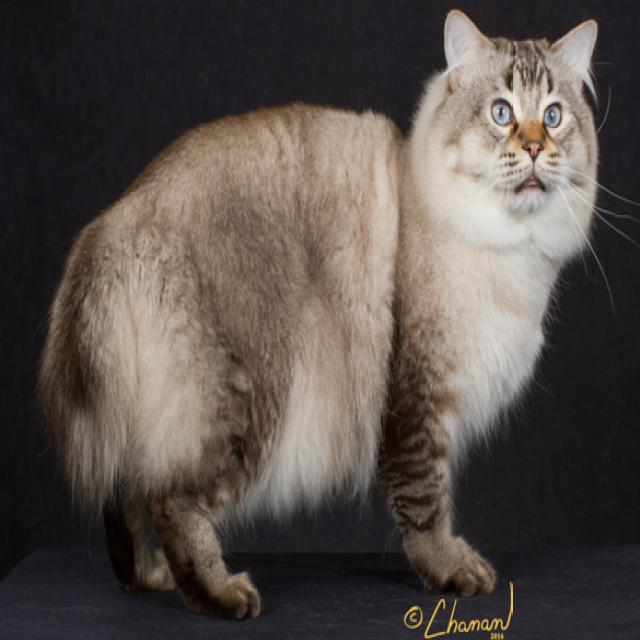American Bobtail: (37, 0, 607, 629)
